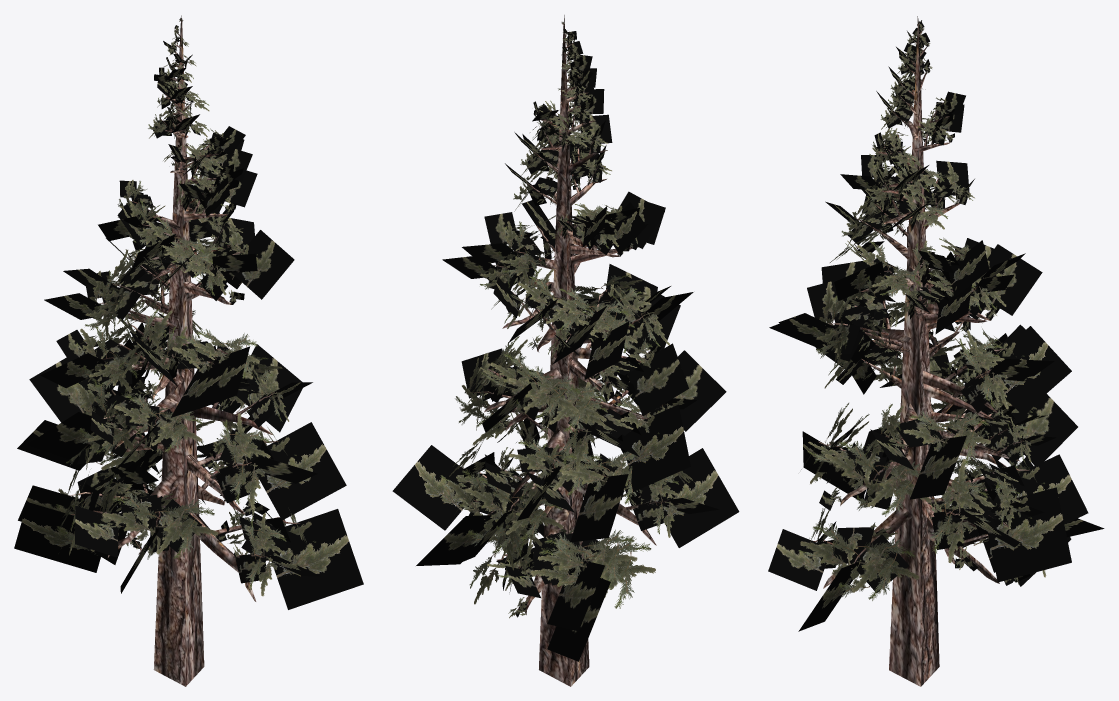
Rendered from TreeP2.fbx.
The picture shows the model from 3 angles, left to right: view 1: azimuth 30°, elevation 25°; view 2: azimuth 150°, elevation 25°; view 3: azimuth 270°, elevation 25°; orthographic projection.
Parts seen in each view (by area): view 1: TreeP.002; view 2: TreeP.002; view 3: TreeP.002.
Boxes of the visible parts, x1,y1,x2,y2 form: TreeP.002: [14, 15, 363, 686]; TreeP.002: [392, 15, 739, 686]; TreeP.002: [768, 16, 1104, 686].
Bounding box in the file's own units: 445 × 1014 × 468.
